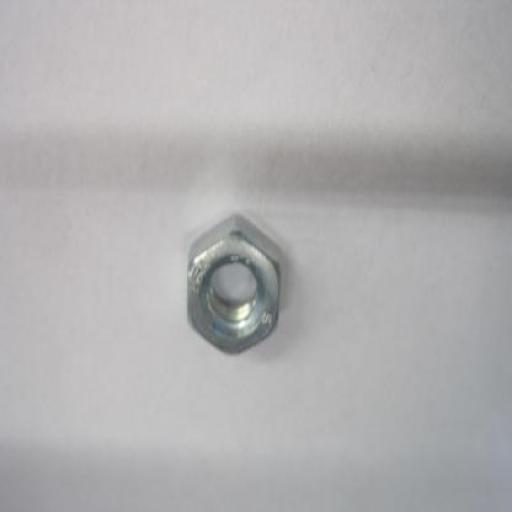Nut: (185, 214, 284, 357)
